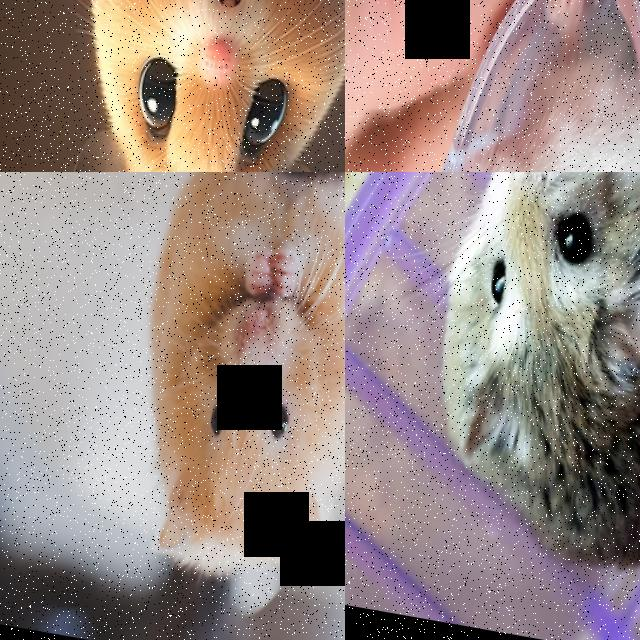hamster: (104, 172, 345, 599), (399, 172, 640, 595), (43, 0, 345, 172), (396, 0, 640, 172)
